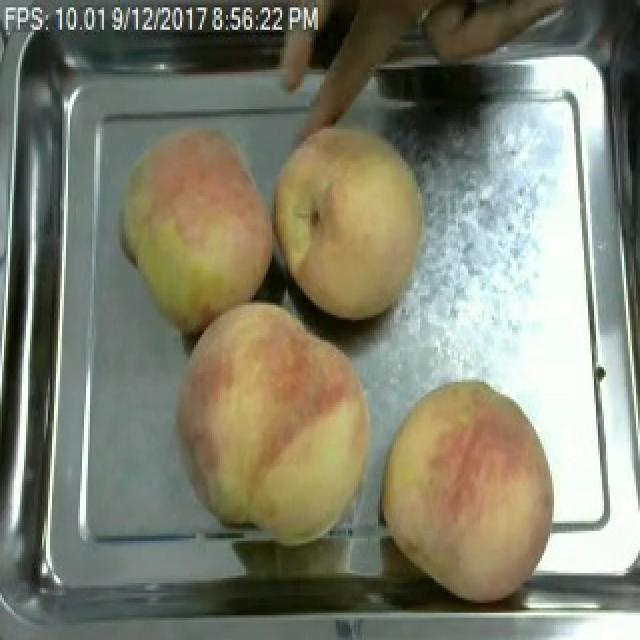Fruit: (168, 288, 386, 553), (366, 370, 566, 612), (112, 114, 274, 342), (274, 107, 438, 332), (402, 0, 608, 67)
